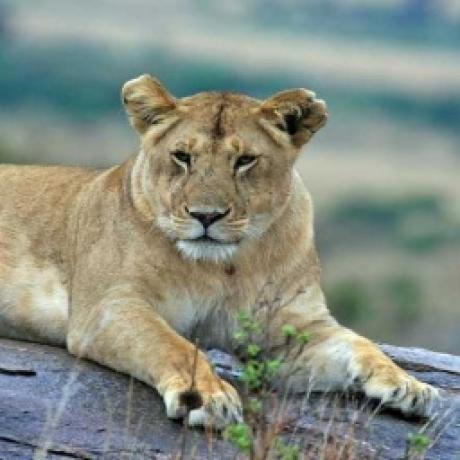Lion: (0, 70, 444, 433)
